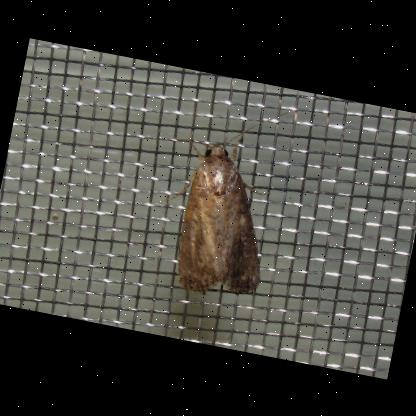Fall Armyworm Moth: (146, 88, 294, 308)
